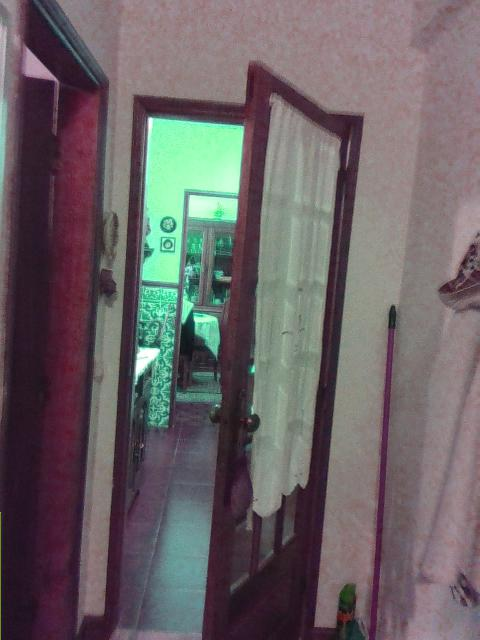semi_door: (104, 56, 364, 639)
